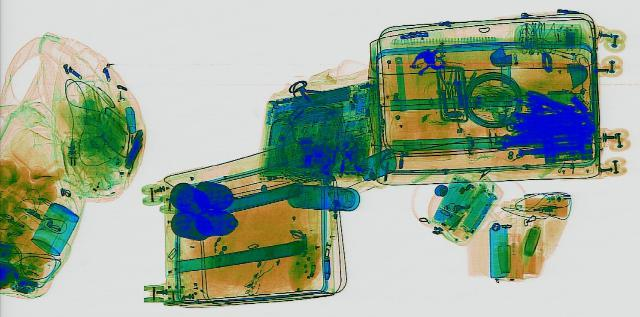Wrench: (494, 131, 564, 149)
